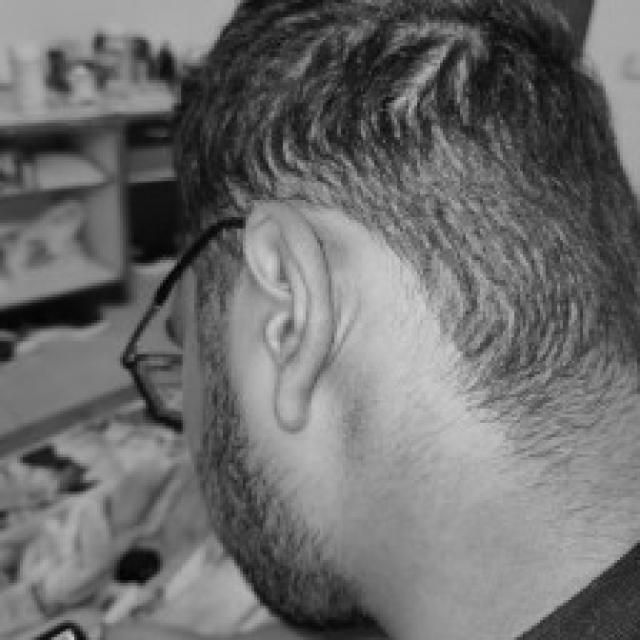ear: (240, 200, 331, 426)
